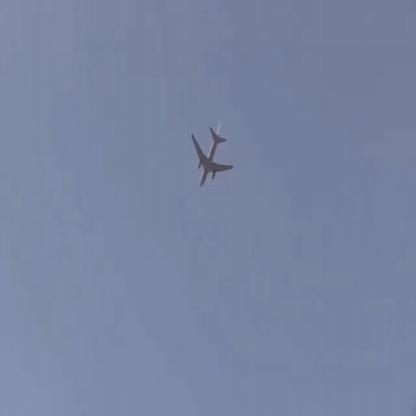CIV_Plane: (190, 126, 232, 186)
